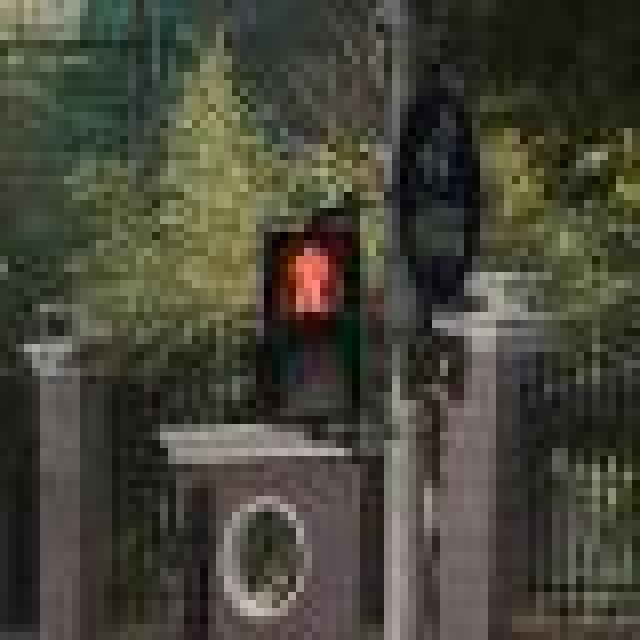redlight: (256, 216, 368, 432)
